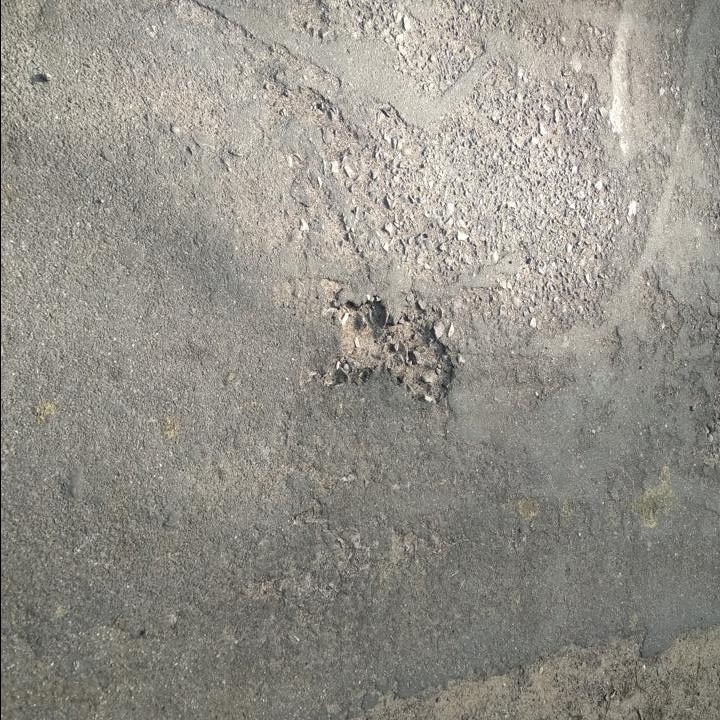pothole: (331, 288, 461, 399)
